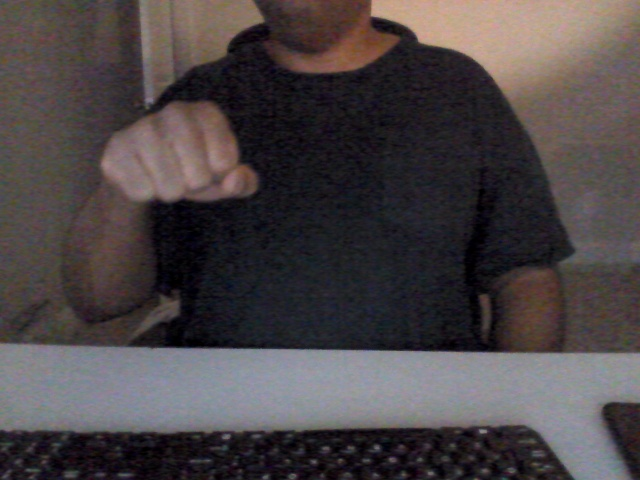yes: (86, 93, 266, 210)
